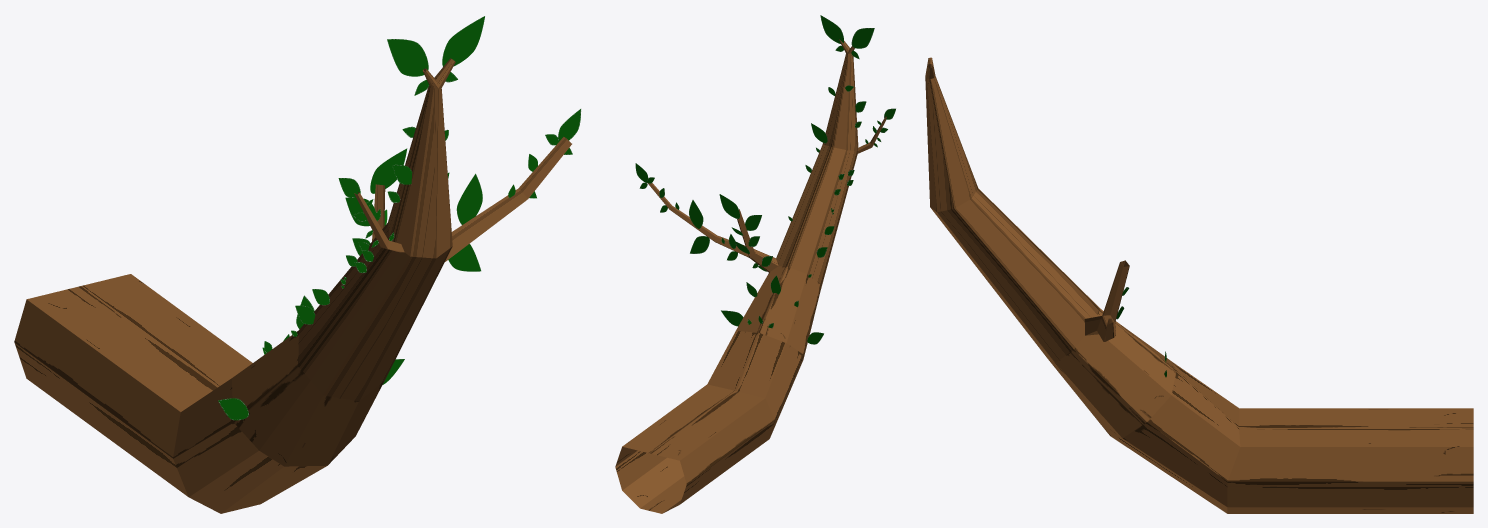
File: Branche1.fbx
The picture shows the model from 3 angles, left to right: view 1: azimuth 30°, elevation 25°; view 2: azimuth 150°, elevation 25°; view 3: azimuth 270°, elevation 25°; orthographic projection. The views are drawn at different scales.
Parts seen in each view (by area): view 1: Branche.002, Leafs; view 2: Branche.002, Leafs; view 3: Branche.002.
Boxes of the visible parts, <box> form: Branche.002: <box>14,58,571,513</box>; Leafs: <box>218,16,581,420</box>; Branche.002: <box>615,39,886,513</box>; Leafs: <box>635,15,895,344</box>; Branche.002: <box>925,57,1473,513</box>.
Size of the model in its own units: 563 by 925 by 969.
